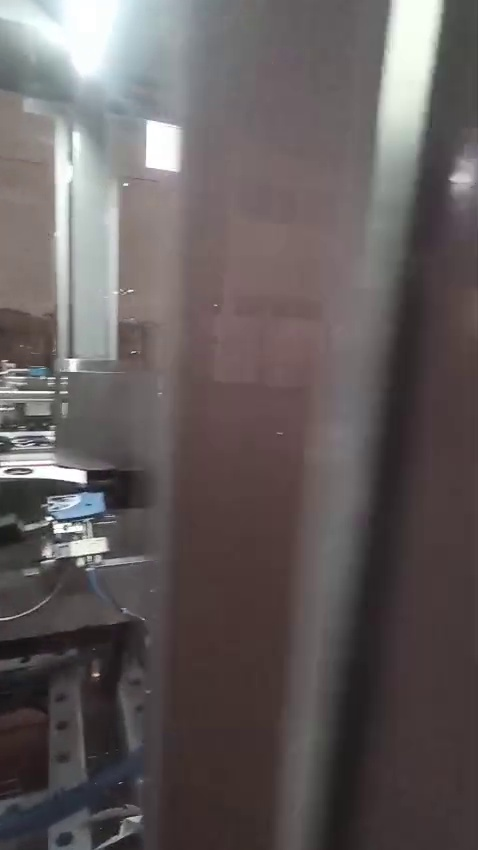savon: (18, 320, 40, 336)
